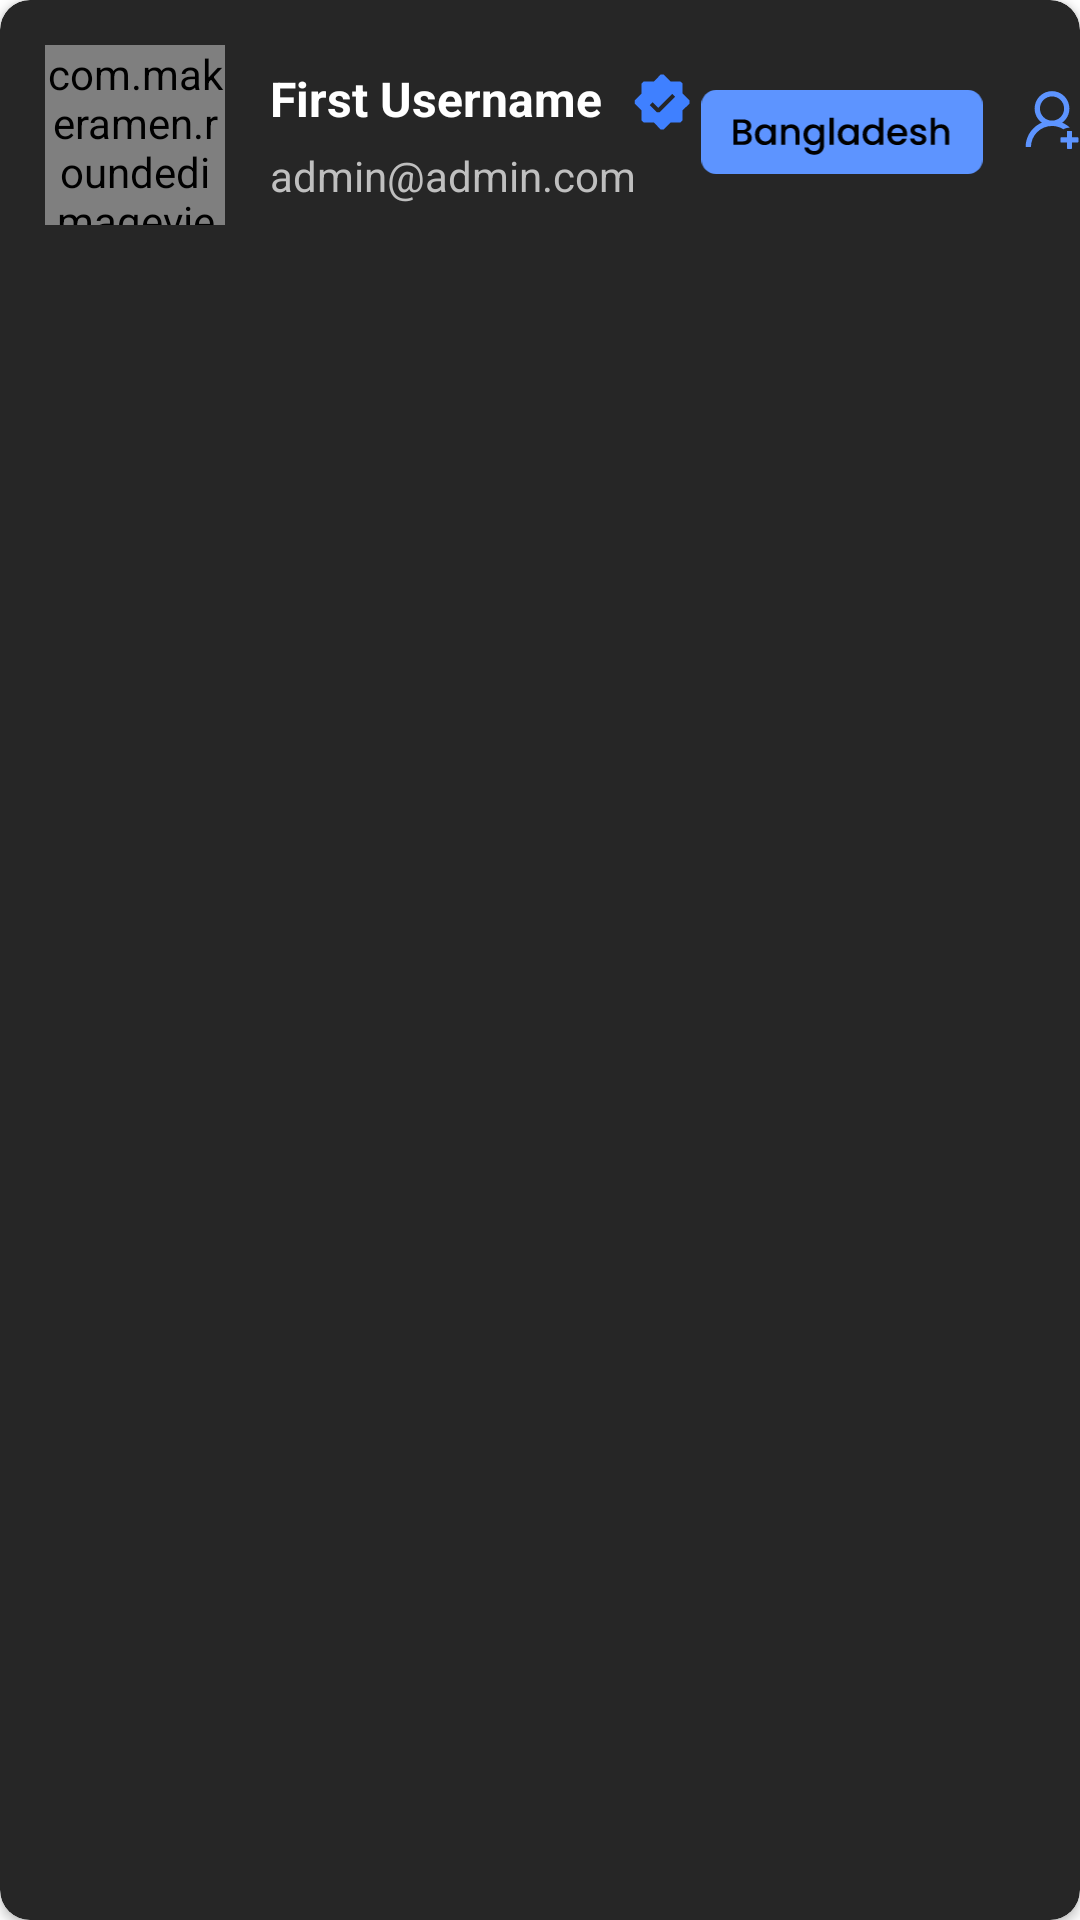

Icon bounding boxes for this 1080x1920 phone screenshot, format [x1, y1, x2, y2]:
mark: [634, 74, 690, 130]
userblue: [1025, 91, 1079, 149]
